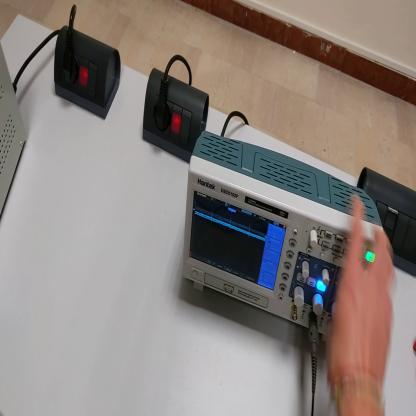hand: (329, 195, 395, 408)
oscilloscope: (183, 132, 387, 346)
power supply: (2, 23, 28, 223)
socket: (52, 26, 124, 119), (142, 68, 211, 164)
